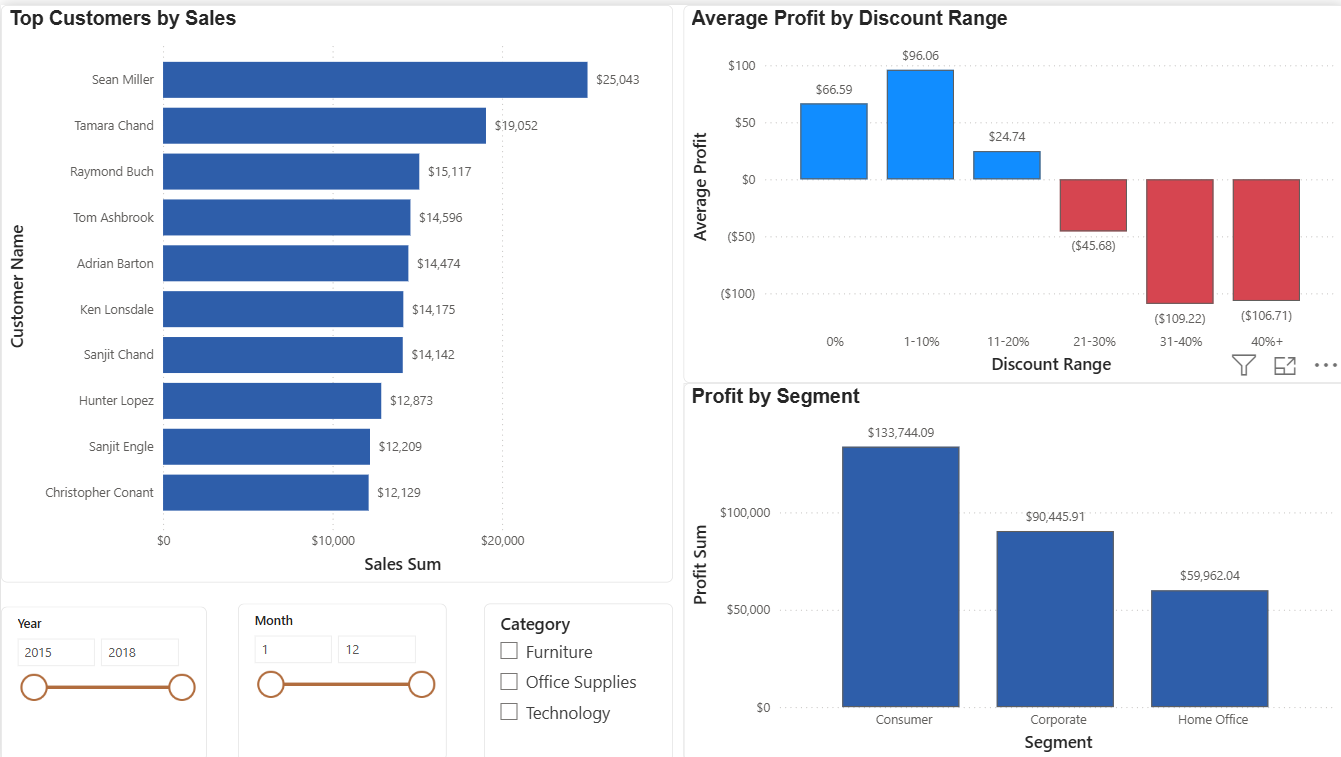

The page's visual inventory and layout, read from the dashboard file:
{"tool":"powerbi","page":{"name":"Página 2","canvas":[1280,720],"ordinal":1},"visuals":[{"type":"barChart","title":"Top Customers by Sales","fields":{"Category":["superstore_eda.Customer Name"],"Y":["Sum(superstore_eda.Sales)"]},"box":[0,0,640,550],"z":0},{"type":"slicer","fields":{"Values":["superstore_eda.Year"]},"box":[0,572.9,195.7,147.1],"z":1000},{"type":"slicer","fields":{"Values":["superstore_eda.Month"]},"box":[225.7,570,198.6,150],"z":2000},{"type":"slicer","fields":{"Values":["superstore_eda.Category"]},"box":[460,570,180,150],"z":3000},{"type":"clusteredColumnChart","title":"Average Profit by Discount Range","fields":{"Category":["superstore_eda.Discount Range"],"Y":["Avg(superstore_eda.Profit)"]},"box":[650,0,630,360],"z":4000},{"type":"clusteredColumnChart","title":"Profit by Segment","fields":{"Category":["superstore_eda.Segment"],"Y":["Sum(superstore_eda.Profit)"]},"box":[650,360,630,360],"z":5000}]}

Visuals, with their boxes in screenshot pixels (x1, y1, x2, y2), scaled from the page's 1280x720 canvas onto the 1341x757 screenshot:
"Top Customers by Sales" barChart: {"left": 0, "top": 0, "right": 670, "bottom": 578}
slicer - superstore_eda.Year: {"left": 0, "top": 602, "right": 205, "bottom": 756}
slicer - superstore_eda.Month: {"left": 236, "top": 599, "right": 445, "bottom": 756}
slicer - superstore_eda.Category: {"left": 482, "top": 599, "right": 670, "bottom": 756}
"Average Profit by Discount Range" clusteredColumnChart: {"left": 681, "top": 0, "right": 1340, "bottom": 378}
"Profit by Segment" clusteredColumnChart: {"left": 681, "top": 378, "right": 1340, "bottom": 756}
